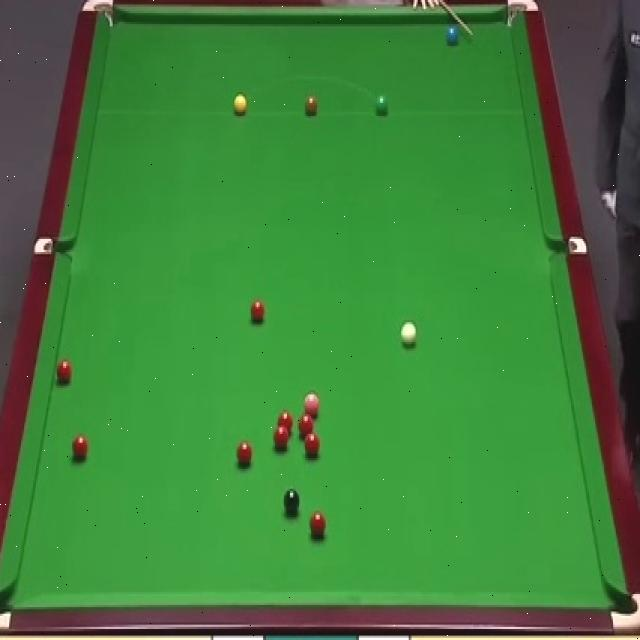black-ball: (284, 490, 302, 514)
blue-ball: (446, 25, 462, 44)
brown-ball: (305, 94, 319, 116)
green-ball: (374, 94, 389, 118)
pink-ball: (303, 389, 320, 416)
red-ball: (236, 439, 254, 468), (56, 359, 75, 385), (310, 510, 327, 538), (72, 434, 89, 461), (296, 412, 314, 437), (304, 430, 320, 457), (249, 300, 266, 324), (278, 410, 293, 435), (274, 426, 290, 449)
white-ball: (400, 322, 417, 349)
yellow-ball: (232, 93, 248, 116)
